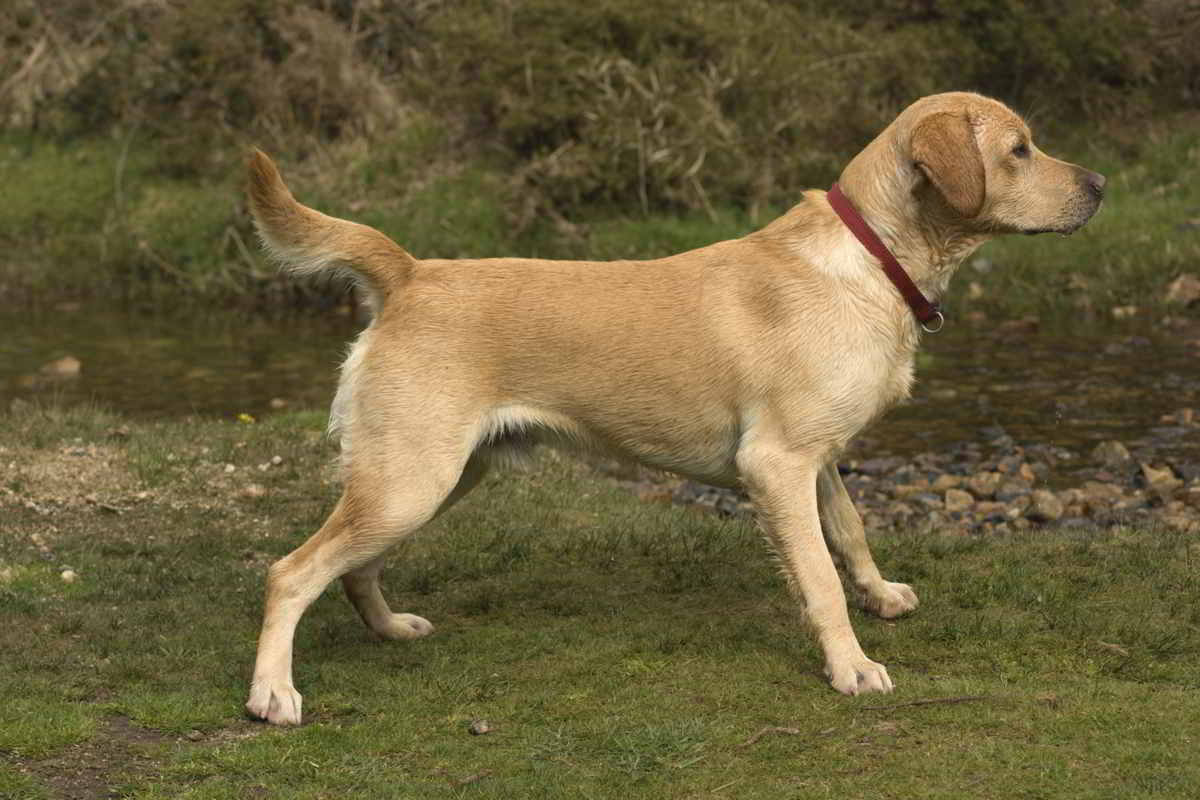tail: (239, 140, 426, 314)
